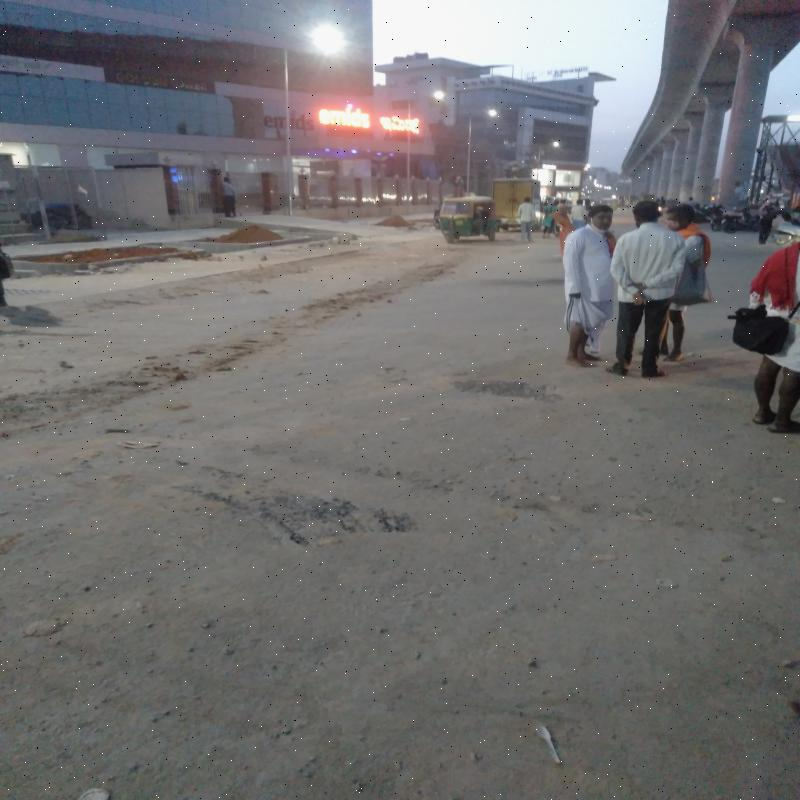auto: (434, 195, 492, 244)
